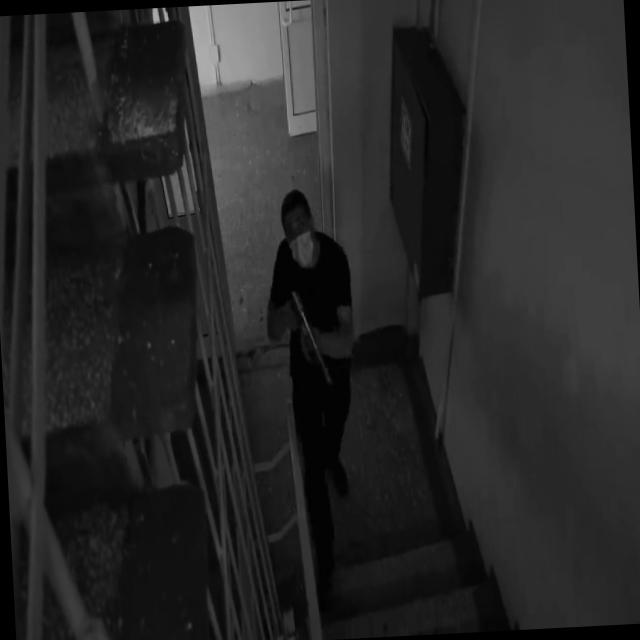gun: (288, 286, 334, 393)
person with a gun: (260, 187, 368, 612)
